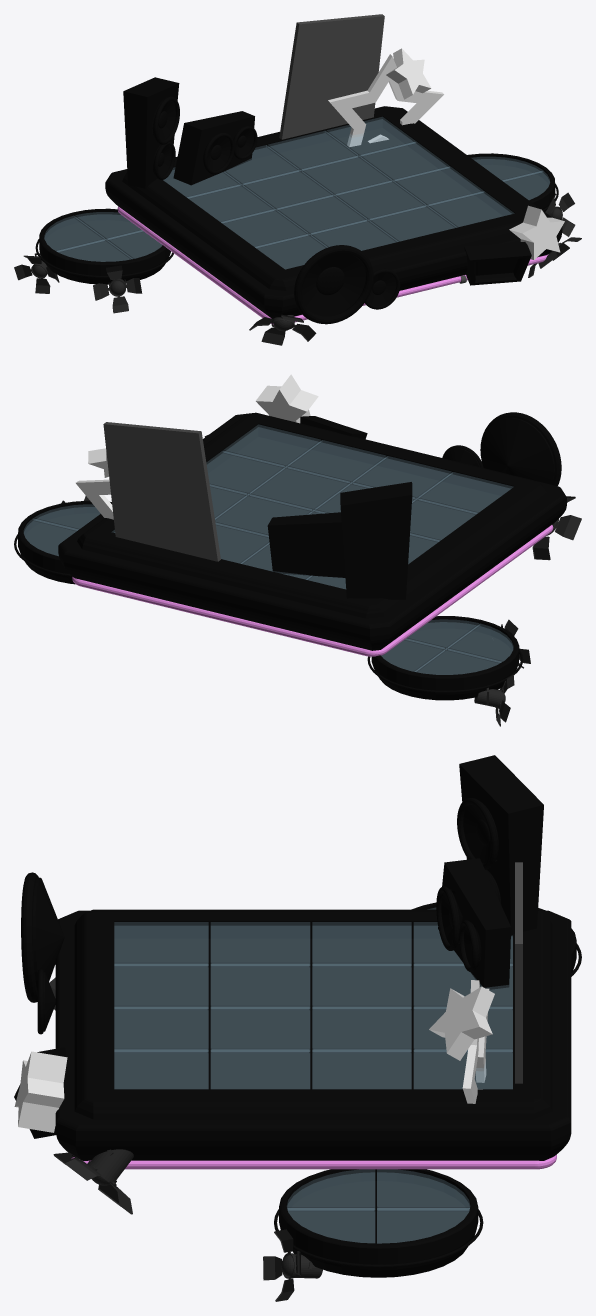
The model's file is Mainflatform.fbx.
The picture shows the model from 3 angles, top to bottom: view 1: azimuth 30°, elevation 25°; view 2: azimuth 150°, elevation 25°; view 3: azimuth 270°, elevation 25°; orthographic projection. The views are drawn at different scales.
Visible parts, largest first — view 1: Cube, Glass, Cube.003, Glass.001, Cube.001, BingSpeaker, Cube.002, star.001, Glass.002, Monitor, Torus, star (+5 smaller); view 2: Cube, Glass, Cube.003, Glass.001, Cube.001, Cube.002, BingSpeaker, Glass.002, Torus, star, star.001, Light1.001 (+3 smaller); view 3: Cube, Glass, Glass.002, Cube.001, Cube.002, Torus, star.001, BingSpeaker, star, Light1.002, Light1.003, Cube.003 (+1 smaller).
Boxes of the visible parts, x1=… form: Cube: x1=105, y1=106, x2=562, y2=318; Glass: x1=163, y1=117, x2=513, y2=269; Cube.003: x1=279, y1=14, x2=384, y2=139; Glass.001: x1=35, y1=208, x2=173, y2=284; Cube.001: x1=123, y1=77, x2=179, y2=188; BingSpeaker: x1=294, y1=245, x2=373, y2=324; Cube.002: x1=173, y1=111, x2=257, y2=185; star.001: x1=328, y1=48, x2=443, y2=146; Glass.002: x1=467, y1=153, x2=558, y2=211; Monitor: x1=464, y1=242, x2=531, y2=285; Torus: x1=117, y1=206, x2=548, y2=324; star: x1=509, y1=205, x2=564, y2=259; Cube: x1=58, y1=412, x2=566, y2=650; Glass: x1=112, y1=425, x2=512, y2=588; Cube.003: x1=103, y1=422, x2=220, y2=561; Glass.001: x1=367, y1=616, x2=523, y2=700; Cube.001: x1=340, y1=482, x2=412, y2=599; Cube.002: x1=267, y1=512, x2=345, y2=577; BingSpeaker: x1=480, y1=412, x2=561, y2=485; Glass.002: x1=14, y1=500, x2=111, y2=584; Torus: x1=72, y1=525, x2=553, y2=656; star: x1=256, y1=374, x2=318, y2=423; star.001: x1=75, y1=448, x2=113, y2=519; Light1.001: x1=532, y1=496, x2=581, y2=560; Cube: x1=55, y1=909, x2=571, y2=1160; Glass: x1=114, y1=922, x2=512, y2=1088; Glass.002: x1=274, y1=1169, x2=483, y2=1277; Cube.001: x1=457, y1=755, x2=543, y2=936; Cube.002: x1=436, y1=858, x2=511, y2=989; Torus: x1=71, y1=1154, x2=556, y2=1169; star.001: x1=429, y1=980, x2=494, y2=1103; BingSpeaker: x1=21, y1=872, x2=64, y2=1002; star: x1=14, y1=1051, x2=67, y2=1132; Light1.002: x1=53, y1=1149, x2=133, y2=1214; Light1.003: x1=263, y1=1229, x2=322, y2=1301; Cube.003: x1=515, y1=862, x2=522, y2=1083.
Bounding box in the file's own units: 2111 × 840 × 1426.
